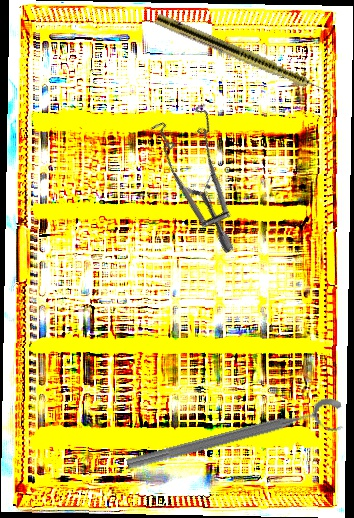Fixation Ring: (124, 394, 348, 488)
Handpiece: (153, 12, 340, 103)
Speculum: (121, 86, 294, 257)
